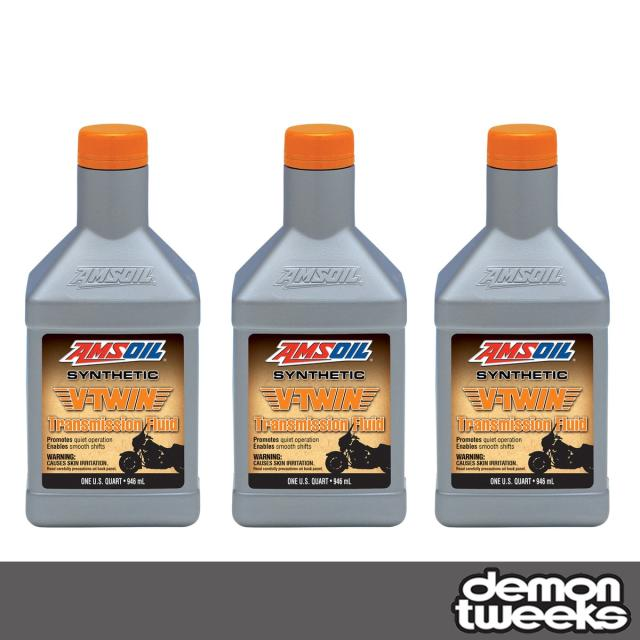-oil-: (12, 120, 201, 530), (228, 113, 410, 529), (437, 113, 610, 526)
